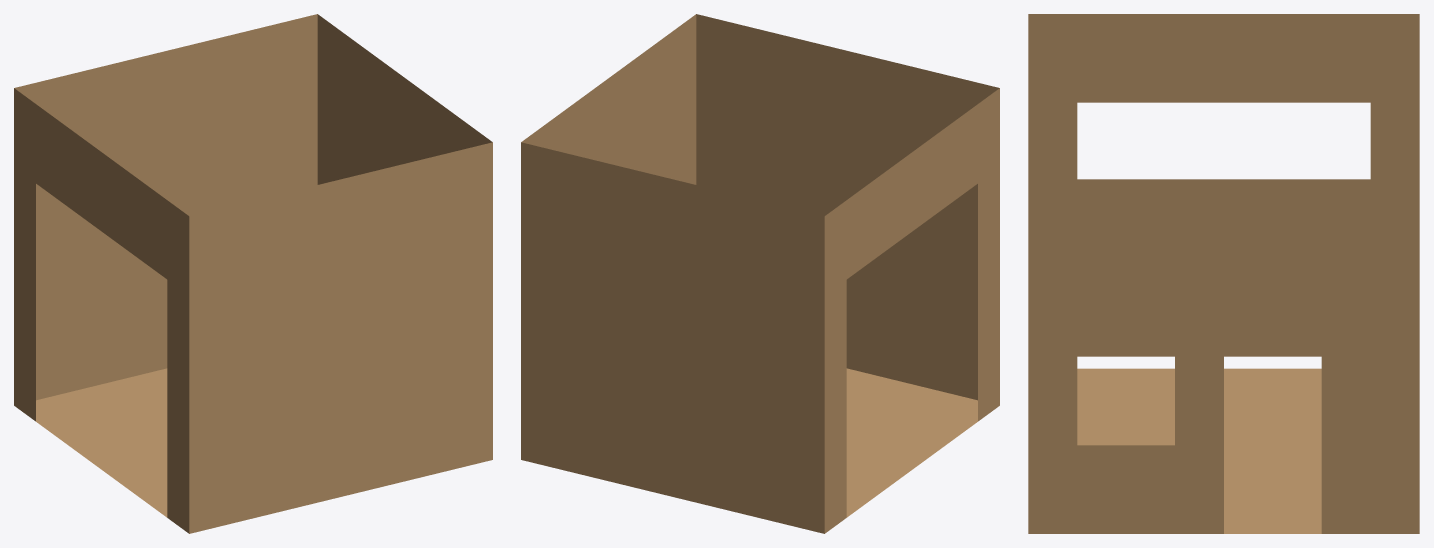
The model's file is cbhouse.glb.
3 views of the same model, side by side, from view 1: azimuth 30°, elevation 25°; view 2: azimuth 150°, elevation 25°; view 3: azimuth 270°, elevation 25° (orthographic). The views are drawn at different scales.
Visible parts, largest first — view 1: Cube; view 2: Cube; view 3: Cube.
Boxes of the visible parts, <box> form: Cube: <box>14,14,492,533</box>; Cube: <box>521,14,999,533</box>; Cube: <box>1028,14,1419,533</box>.
Bounding box in the file's own units: 2 × 2 × 2.
